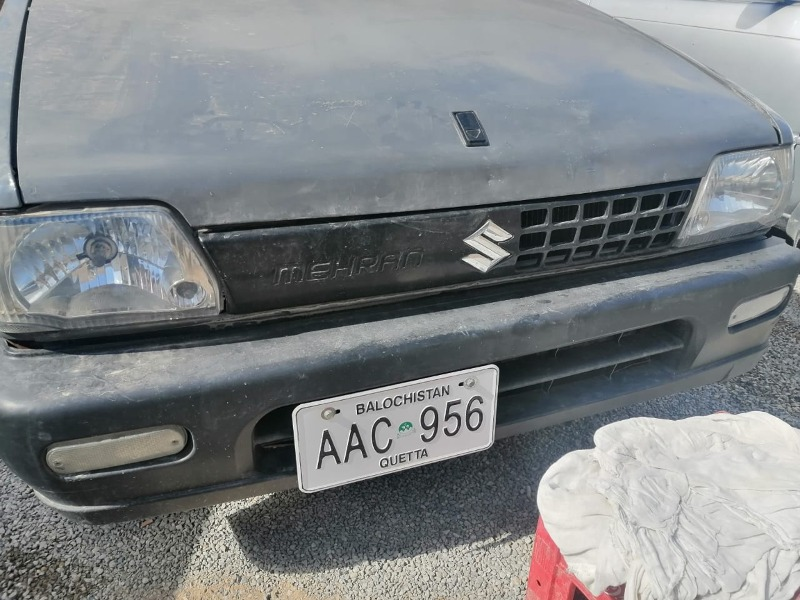License Plate: (285, 364, 502, 495)
